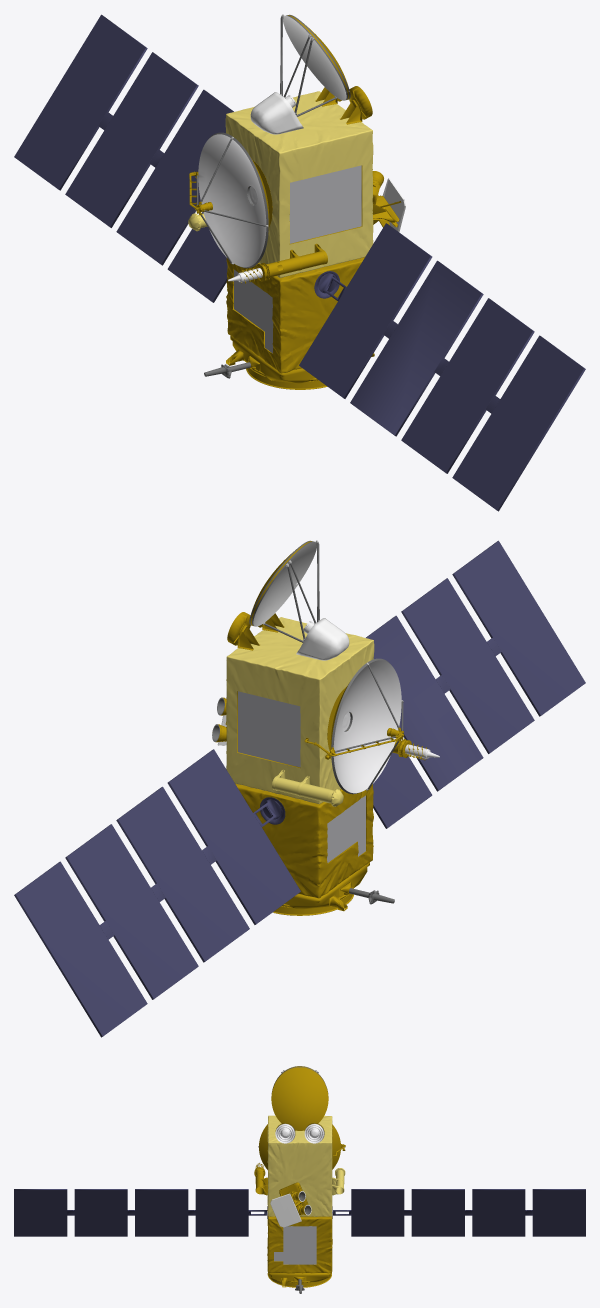
File: Jason1.glb
3 views of the same model, one above another, from view 1: azimuth 30°, elevation 25°; view 2: azimuth 150°, elevation 25°; view 3: azimuth 270°, elevation 25° (orthographic). The views are drawn at different scales.
Parts seen in each view (by area): view 1: Jason-1_vFINAL [Dark Grey], Jason-1_vFINAL [Main Body_Foil], Jason-1_vFINAL [White Surfaces], Jason-1_vFINAL [Foil Color Surfaces], Jason-1_vFINAL [Steel Panels], Jason-1_vFINAL [Black Surfaces], Jason-1_vFINAL [White Surfaces_Smooth], Jason-1_vFINAL [Grey Surfaces]; view 2: Jason-1_vFINAL [Dark Grey], Jason-1_vFINAL [Main Body_Foil], Jason-1_vFINAL [White Surfaces], Jason-1_vFINAL [Foil Color Surfaces], Jason-1_vFINAL [Steel Panels], Jason-1_vFINAL [Black Surfaces], Jason-1_vFINAL [White Surfaces_Smooth], Jason-1_vFINAL [Grey Surfaces]; view 3: Jason-1_vFINAL [Solar Panels], Jason-1_vFINAL [Main Body_Foil], Jason-1_vFINAL [Foil Color Surfaces], Jason-1_vFINAL [Light Grey Surfaces], Jason-1_vFINAL [White Surfaces], Jason-1_vFINAL [Steel Panels], Jason-1_vFINAL [Dark Grey], Jason-1_vFINAL [Grey Surfaces], Jason-1_vFINAL [Black Surfaces].
Boxes of the visible parts, bbox=[...] form: Jason-1_vFINAL [Dark Grey]: bbox=[14, 14, 585, 511]; Jason-1_vFINAL [Main Body_Foil]: bbox=[225, 91, 373, 373]; Jason-1_vFINAL [White Surfaces]: bbox=[198, 15, 405, 282]; Jason-1_vFINAL [Foil Color Surfaces]: bbox=[188, 15, 401, 389]; Jason-1_vFINAL [Steel Panels]: bbox=[234, 165, 361, 353]; Jason-1_vFINAL [Black Surfaces]: bbox=[196, 14, 350, 378]; Jason-1_vFINAL [White Surfaces_Smooth]: bbox=[250, 92, 303, 134]; Jason-1_vFINAL [Grey Surfaces]: bbox=[98, 14, 500, 413]; Jason-1_vFINAL [Dark Grey]: bbox=[14, 540, 585, 1037]; Jason-1_vFINAL [Main Body_Foil]: bbox=[226, 617, 374, 898]; Jason-1_vFINAL [White Surfaces]: bbox=[212, 541, 439, 793]; Jason-1_vFINAL [Foil Color Surfaces]: bbox=[215, 541, 426, 915]; Jason-1_vFINAL [Steel Panels]: bbox=[238, 691, 365, 862]; Jason-1_vFINAL [Black Surfaces]: bbox=[212, 540, 403, 904]; Jason-1_vFINAL [White Surfaces_Smooth]: bbox=[296, 618, 349, 660]; Jason-1_vFINAL [Grey Surfaces]: bbox=[99, 540, 501, 939]; Jason-1_vFINAL [Solar Panels]: bbox=[16, 1191, 583, 1235]; Jason-1_vFINAL [Main Body_Foil]: bbox=[267, 1115, 332, 1273]; Jason-1_vFINAL [Foil Color Surfaces]: bbox=[254, 1066, 345, 1287]; Jason-1_vFINAL [Light Grey Surfaces]: bbox=[14, 1190, 585, 1236]; Jason-1_vFINAL [White Surfaces]: bbox=[257, 1123, 324, 1227]; Jason-1_vFINAL [Steel Panels]: bbox=[274, 1226, 316, 1264]; Jason-1_vFINAL [Dark Grey]: bbox=[14, 1189, 585, 1236]; Jason-1_vFINAL [Grey Surfaces]: bbox=[67, 1070, 532, 1218]; Jason-1_vFINAL [Black Surfaces]: bbox=[267, 1066, 332, 1293].
Size of the model in its own units: 152 by 253 by 634.
